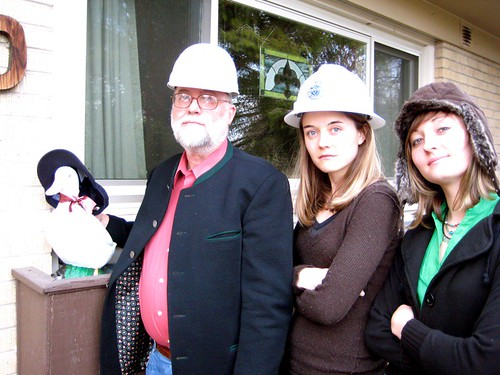person hardhat: (109, 42, 297, 375), (271, 58, 397, 374)
